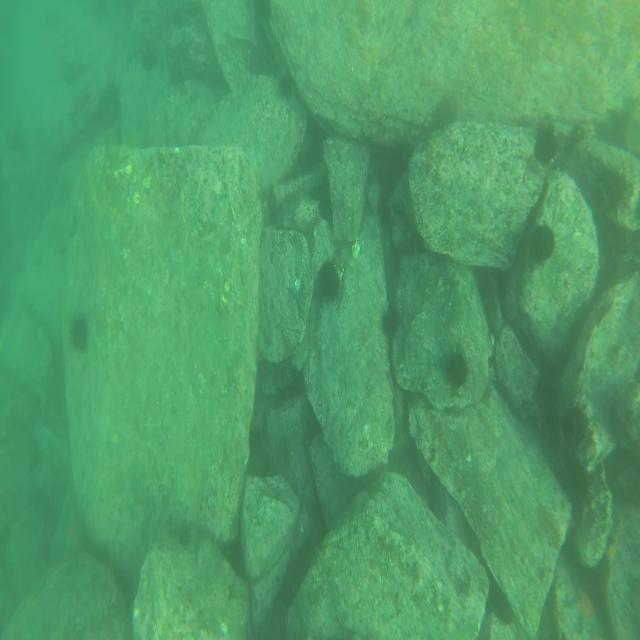echinus: (429, 93, 458, 138), (317, 256, 344, 303), (532, 220, 558, 268), (564, 403, 590, 447), (535, 125, 559, 166), (446, 349, 470, 388), (68, 310, 88, 354), (380, 306, 401, 334), (278, 72, 294, 100), (141, 46, 156, 69)
starfish: (566, 582, 602, 634), (604, 540, 620, 568)
